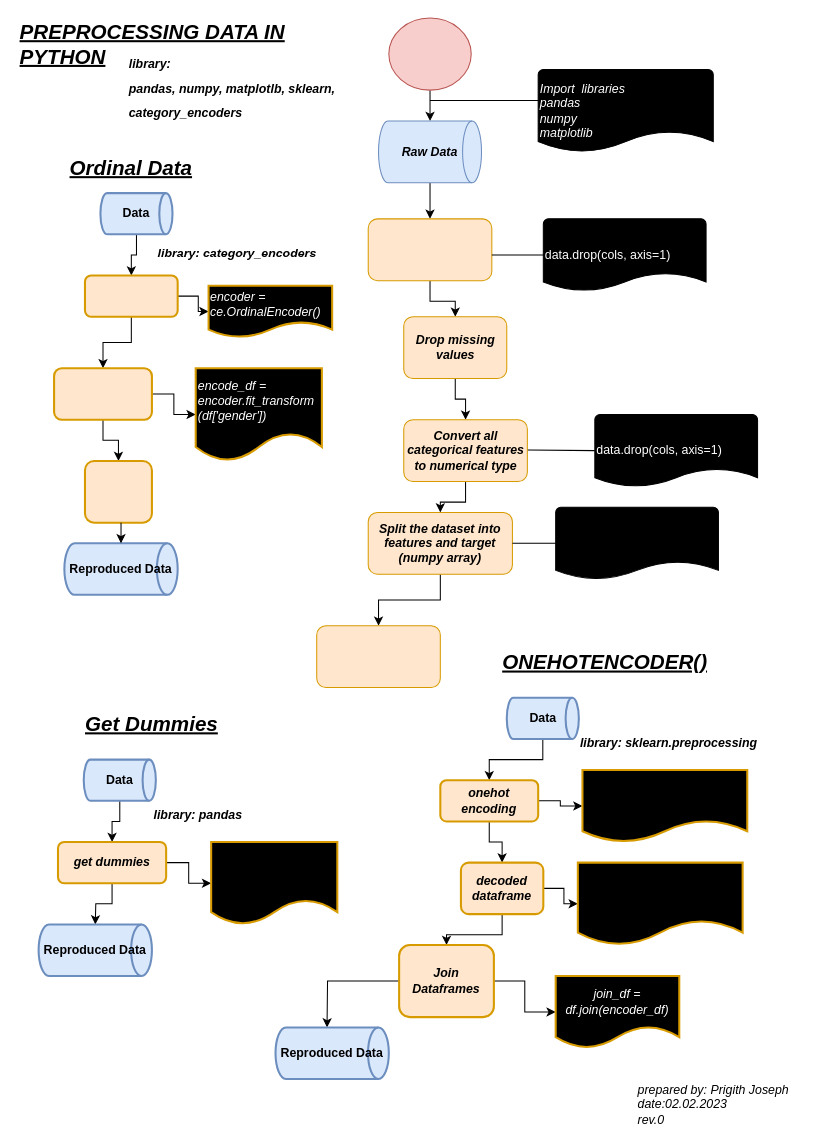
Image size: 816x1144. Some labels were removed from this diagram. Here are the shapes that lost their labels. From the top down, the box of each, then its label:
(388, 17, 471, 90): Start
(367, 218, 492, 281): Drop the columns aren't useful
(83, 274, 178, 317): Ordinal encoding
(53, 367, 152, 420): convert to category binary values
(83, 459, 152, 523): combine dataframes
(555, 506, 718, 579): X = data[features].values y = data[target].values
(316, 625, 440, 688): split into train and test sets
(581, 768, 748, 843): encoder = OneHotEncoder(drop='first')
(210, 840, 338, 925): pd.get_dummies(df, prefix='dummy', drop_first=True)
(576, 861, 743, 946): encoder_df = pd.DataFrame(encoder .fit_transform(df[['columns']]) .toarray())
